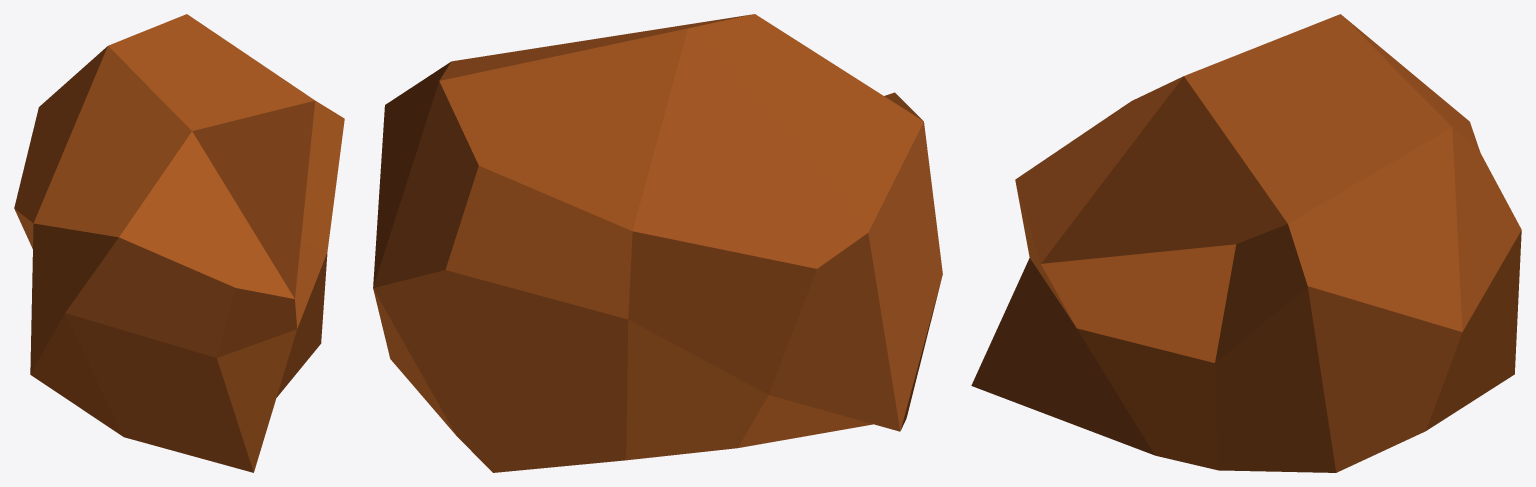
The model's file is Stone01.FBX.
3 renders of one model, left to right at view 1: azimuth 30°, elevation 25°; view 2: azimuth 150°, elevation 25°; view 3: azimuth 270°, elevation 25°, orthographic. The views are drawn at different scales.
Visible parts, largest first — view 1: Box002; view 2: Box002; view 3: Box002.
Part boxes in pixels (<box>): Box002: <box>14,14,344,472</box>; Box002: <box>373,14,942,472</box>; Box002: <box>971,14,1521,472</box>.
Bounding box in the file's own units: 128 × 119 × 151.
